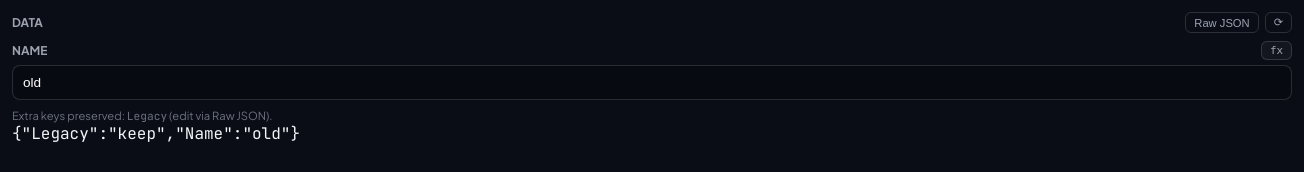
Test case: DynamicFieldsField › preserves unknown/extra keys not described by the schema
The width and height of the screenshot is (1304, 172).
Check: the text "Extra keys preserved: Legacy (edit via Raw JSON)." is shown, box 12,108 -> 273,123
Replace the text in the field with placeholder "Enter Name…" with "new": (652, 82) 12,65 -> 1292,100
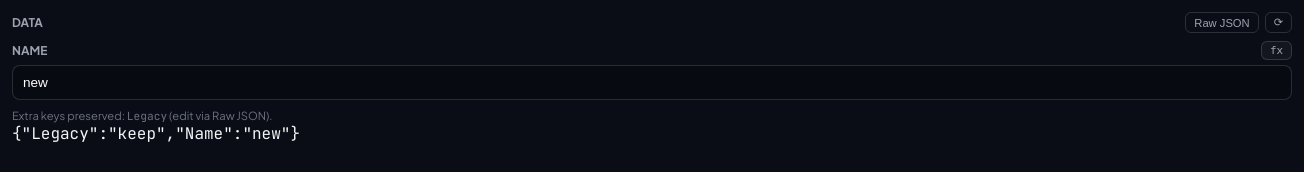
Check: the text with test id "value" shows "\"Legacy\":\"keep\"", box 12,123 -> 300,144
Check: the text with test id "value" shows "\"Name\":\"new\"", box 12,123 -> 300,144
